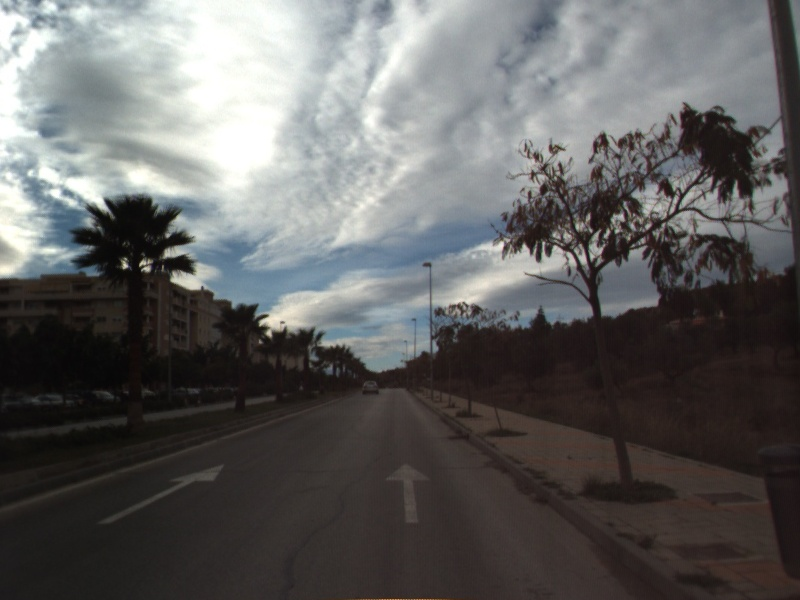STRAIGHT: (94, 462, 227, 526), (383, 461, 433, 525)
